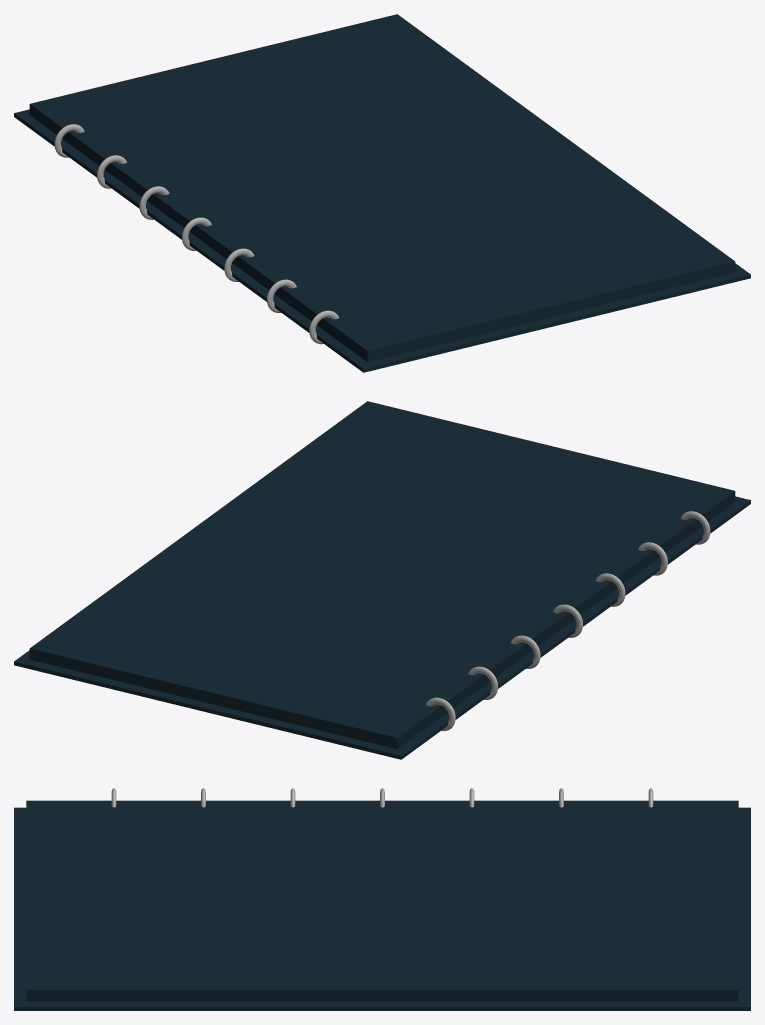
File: notebook.fbx
3 renders of one model, top to bottom at view 1: azimuth 30°, elevation 25°; view 2: azimuth 150°, elevation 25°; view 3: azimuth 270°, elevation 25°, orthographic. The views are drawn at different scales.
Parts seen in each view (by area): view 1: Cube; view 2: Cube; view 3: Cube.
Boxes of the visible parts, bbox=[...] form: Cube: bbox=[14, 14, 750, 372]; Cube: bbox=[14, 401, 750, 759]; Cube: bbox=[14, 788, 750, 1010].
Size of the model in its own units: 214 by 16.97 by 329.
